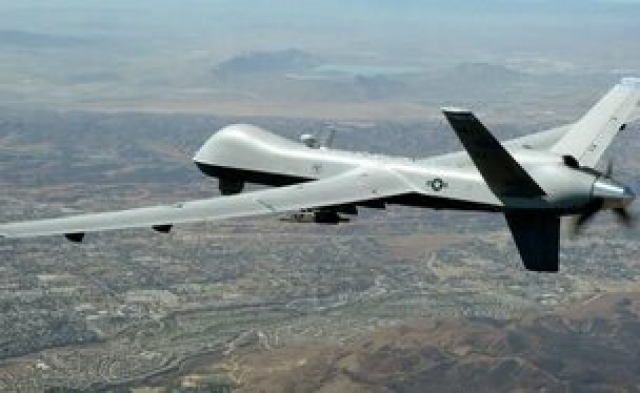military drone: (0, 75, 640, 272)
